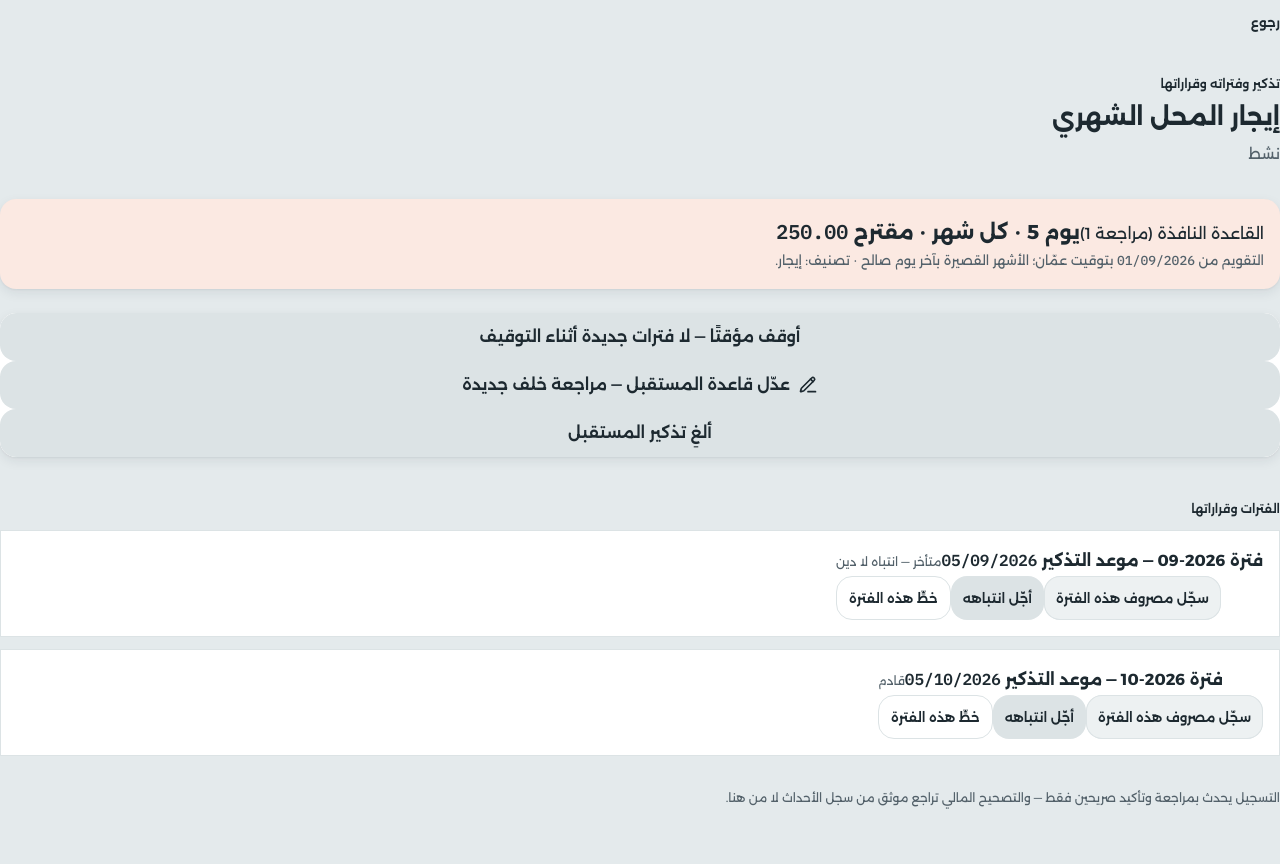
Test: R2 (M-11/D13) — توصيل حد «اليوم» الكنوني بعمّان في أسطح المصروف المتكرر › R11 W4 / D-13: الأقسام الداخلية الموسعة regions لا dialogs — بلا فخ تركيز ولا إزاحة (OD-A11Y)
What coordinates should you click on to do the following:
click the button "ألغِ تذكير المستقبل"
I would click on:
 (640, 433)
Its box is top-left (0, 409), bottom-right (1279, 457).
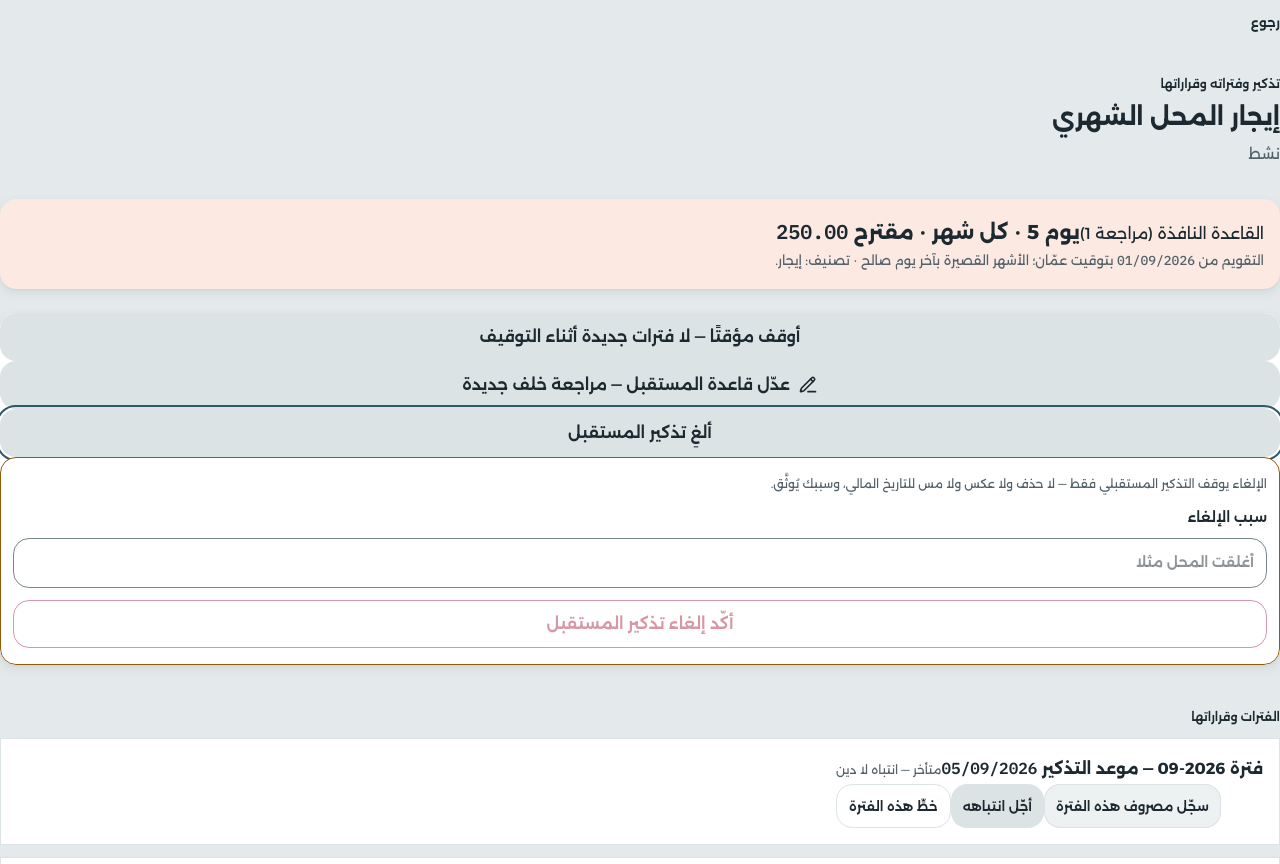
Result: the element named "إلغاء تذكير المستقبل" is shown at top-left (0, 457), bottom-right (1279, 665)
What coordinates should you click on to do the following:
click the button "أجّل انتباهه"
I would click on:
 (997, 806)
Its box is top-left (951, 784), bottom-right (1044, 828).
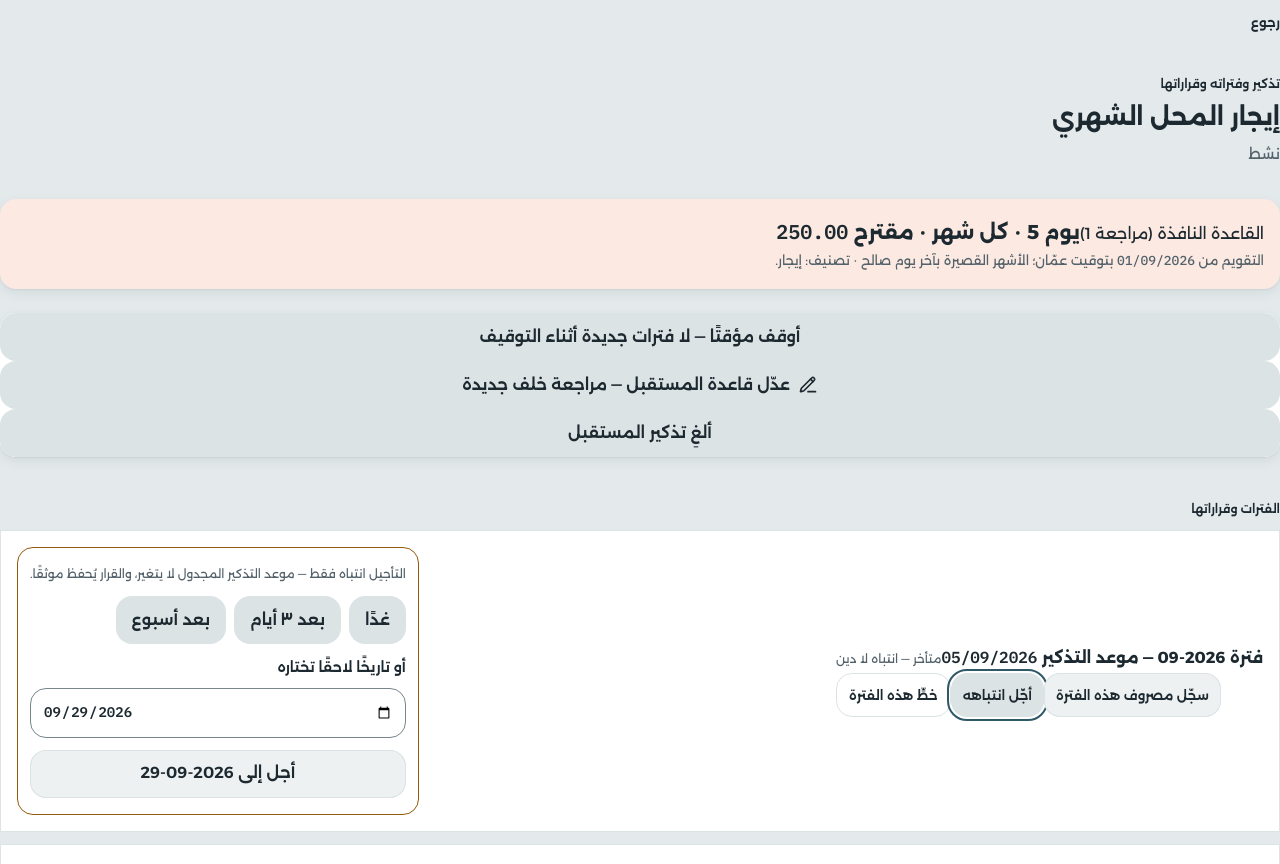
Result: the element named "تأجيل انتباه الفترة" is shown at top-left (17, 547), bottom-right (419, 815)
